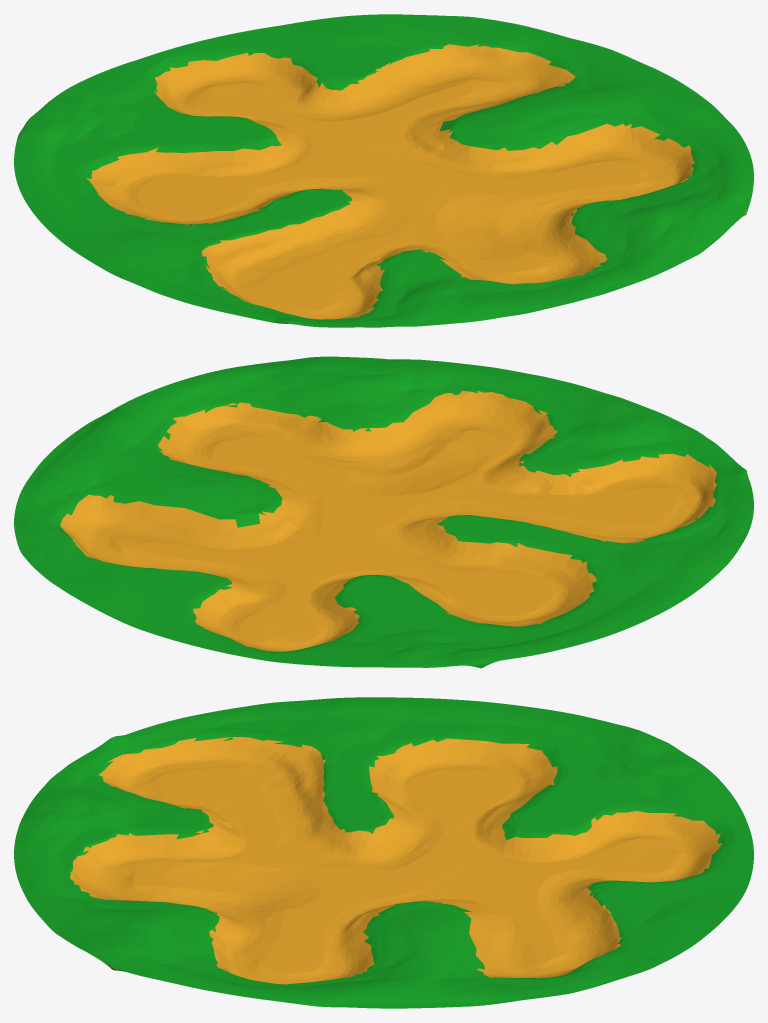
The model's file is Level1.fbx.
3 renders of one model, top to bottom at view 1: azimuth 30°, elevation 25°; view 2: azimuth 150°, elevation 25°; view 3: azimuth 270°, elevation 25°, orthographic. The views are drawn at different scales.
Visible parts, largest first — view 1: Plane; view 2: Plane; view 3: Plane.
Part boxes in pixels (x1,y1,x2,y2): Plane: (14,14,753,327); Plane: (14,356,753,668); Plane: (14,697,753,1008).
Size of the model in its own units: 10525 by 460 by 10526.
